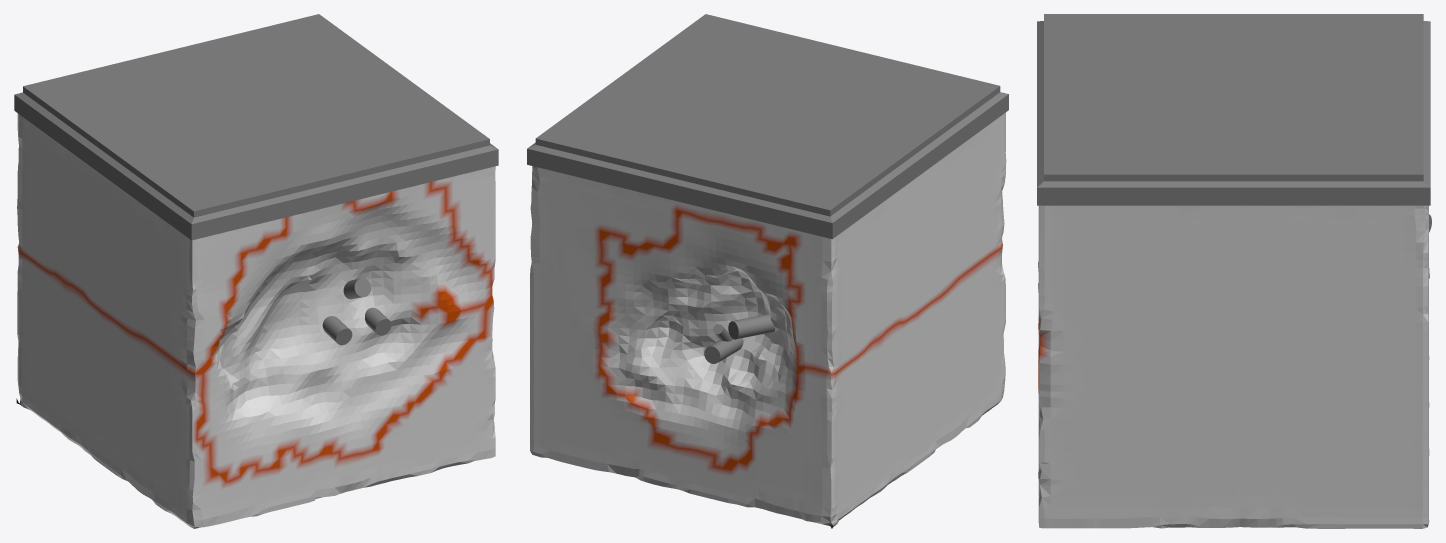
The model's file is c_tile_wbars.fbx.
The picture shows the model from 3 angles, left to right: view 1: azimuth 30°, elevation 25°; view 2: azimuth 150°, elevation 25°; view 3: azimuth 270°, elevation 25°; orthographic projection. The views are drawn at different scales.
Parts seen in each view (by area): view 1: blockshaved_oPP, tile, metal_bars; view 2: blockshaved_oPP, tile, metal_bars; view 3: blockshaved_oPP, tile.
Boxes of the visible parts, left/top/right/bottom form: blockshaved_oPP: left=16, top=113, right=495, bottom=528; tile: left=14, top=14, right=498, bottom=240; metal_bars: left=322, top=278, right=391, bottom=345; blockshaved_oPP: left=530, top=112, right=1006, bottom=528; tile: left=527, top=14, right=1008, bottom=239; metal_bars: left=704, top=313, right=774, bottom=363; blockshaved_oPP: left=1038, top=205, right=1429, bottom=528; tile: left=1037, top=14, right=1430, bottom=205.
Bounding box in the file's own units: 2.02 × 2 × 2.03.
